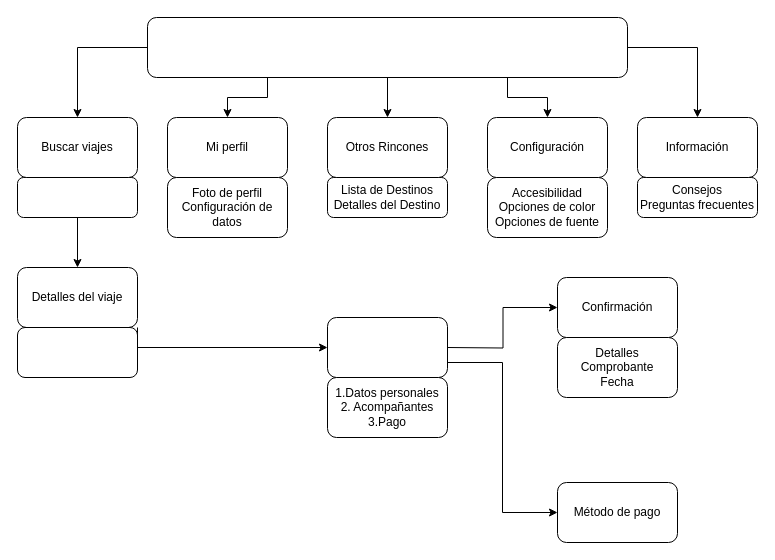
This 775x560 diagram has some shape labels left out. Each missing label, with the centre of its shape:
"Favorito Volver Reservar" belongs at (77,352).
"Filtros Resultados" belongs at (77,197).
"Home page Buscar Viajes Otros Rincones Mi perfil Información Configuración" belongs at (387,47).
"Proceso de Reserva" belongs at (387,347).
